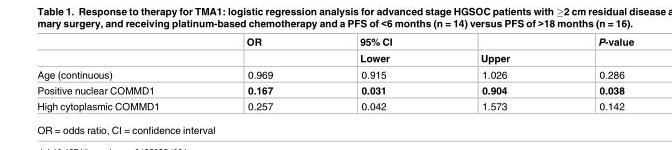table: (36, 37, 633, 111)
table column: (36, 37, 202, 111), (315, 37, 435, 111), (435, 37, 553, 111), (202, 37, 315, 111), (553, 37, 633, 111)
table column header: (36, 37, 633, 66)
table row: (36, 50, 633, 66), (36, 66, 633, 82), (36, 82, 633, 98), (36, 37, 633, 50), (36, 98, 633, 111)
table spanning cell: (315, 37, 435, 66), (435, 37, 553, 66), (202, 37, 315, 66), (553, 37, 633, 66)
